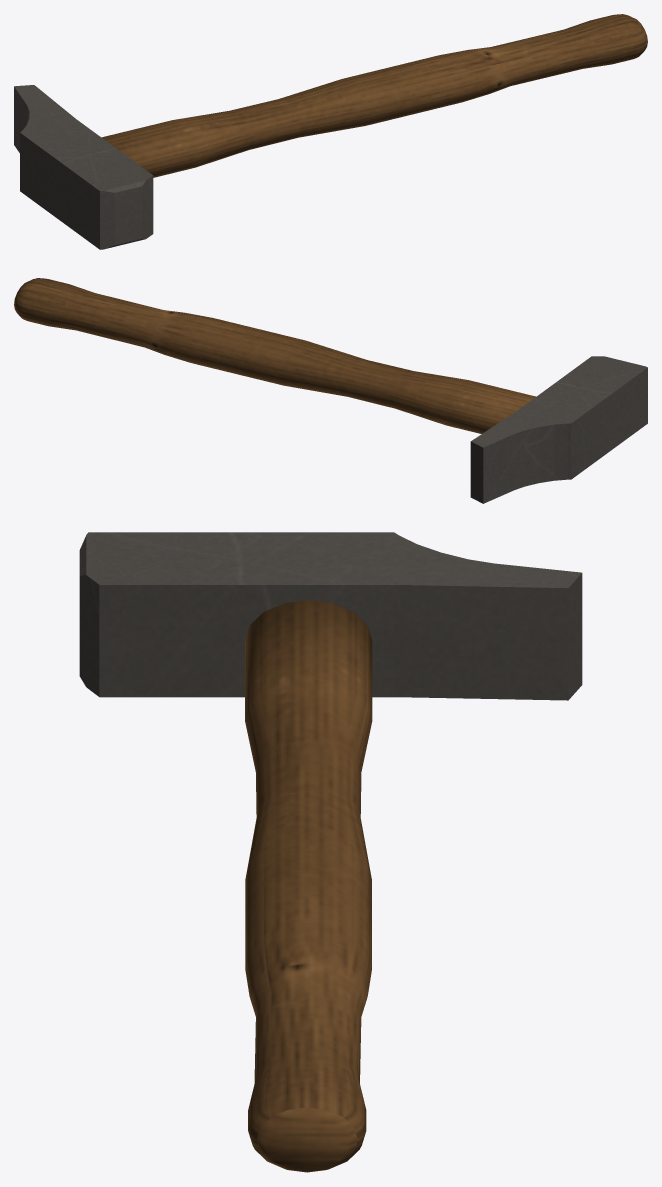
File: marteau.fbx
3 views of the same model, one above another, from view 1: azimuth 30°, elevation 25°; view 2: azimuth 150°, elevation 25°; view 3: azimuth 270°, elevation 25° (orthographic). The views are drawn at different scales.
Parts seen in each view (by area): view 1: Cube; view 2: Cube; view 3: Cube.
Boxes of the visible parts, x1,y1,x2,y2 form: Cube: (14,14,647,249); Cube: (14,278,647,503); Cube: (79,532,582,1172).
Size of the model in its own units: 34.46 by 3.25 by 13.2.
